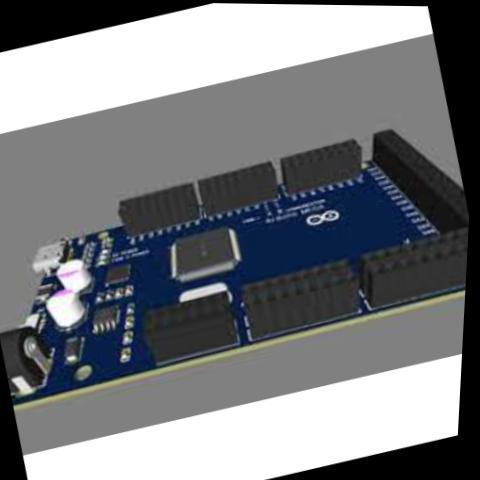Arduino-Mega: (0, 96, 476, 423)
